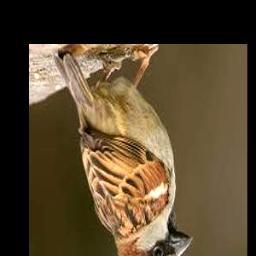Sparrow: (54, 48, 194, 256)
